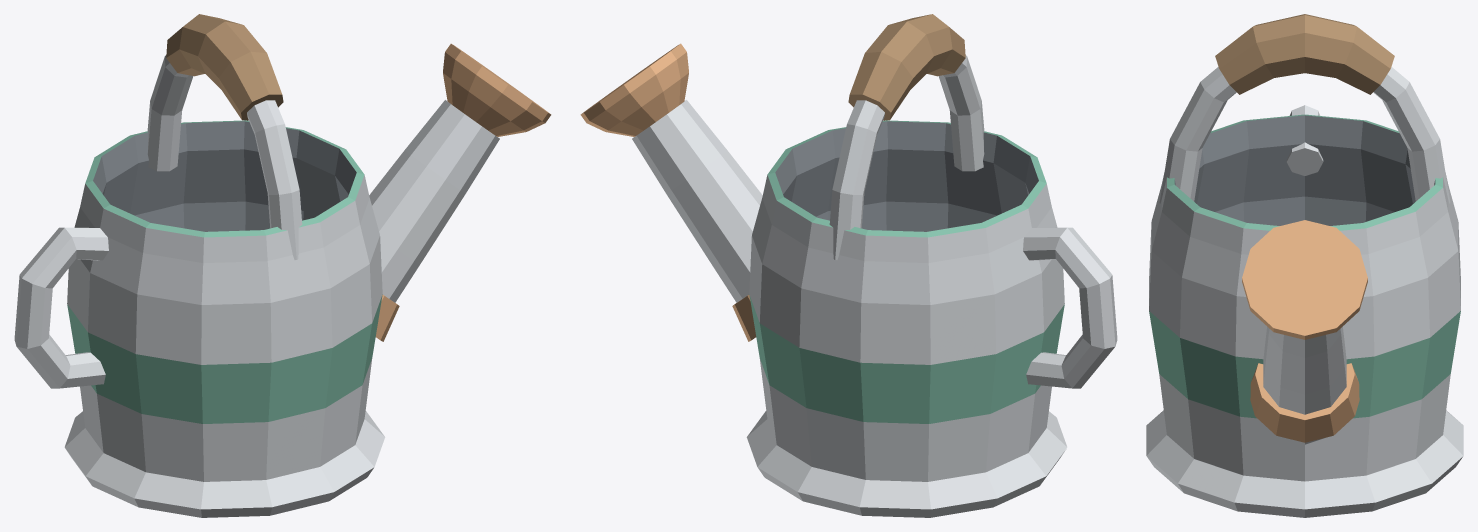
Rendered from 33-Agricultura_regadera.glb.
3 renders of one model, left to right at view 1: azimuth 30°, elevation 25°; view 2: azimuth 150°, elevation 25°; view 3: azimuth 270°, elevation 25°, orthographic.
Visible parts, largest first — view 1: SM_Regadera_M_Regadera_Galvanizado_Regadera_Interior_Regader, SM_Regadera_M_Regadera_Galvanizado, SM_Regadera_M_Regadera_Madera, SM_Regadera_M_Regadera_Cobre; view 2: SM_Regadera_M_Regadera_Galvanizado_Regadera_Interior_Regader, SM_Regadera_M_Regadera_Galvanizado, SM_Regadera_M_Regadera_Madera, SM_Regadera_M_Regadera_Cobre; view 3: SM_Regadera_M_Regadera_Galvanizado_Regadera_Interior_Regader, SM_Regadera_M_Regadera_Galvanizado, SM_Regadera_M_Regadera_Cobre, SM_Regadera_M_Regadera_Madera.
Part boxes in pixels (x1,y1,x2,y2): SM_Regadera_M_Regadera_Galvanizado_Regadera_Interior_Regader: (64,120,385,517); SM_Regadera_M_Regadera_Galvanizado: (14,55,499,388); SM_Regadera_M_Regadera_Madera: (166,14,283,120); SM_Regadera_M_Regadera_Cobre: (375,43,551,341); SM_Regadera_M_Regadera_Galvanizado_Regadera_Interior_Regader: (746,120,1067,517); SM_Regadera_M_Regadera_Galvanizado: (632,55,1117,388); SM_Regadera_M_Regadera_Madera: (848,14,965,120); SM_Regadera_M_Regadera_Cobre: (580,43,756,341); SM_Regadera_M_Regadera_Galvanizado_Regadera_Interior_Regader: (1146,114,1463,517); SM_Regadera_M_Regadera_Galvanizado: (1159,67,1450,444); SM_Regadera_M_Regadera_Cobre: (1242,220,1367,442); SM_Regadera_M_Regadera_Madera: (1215,14,1394,94).
Bounding box in the file's own units: 0.4673 × 0.368 × 0.2418.
